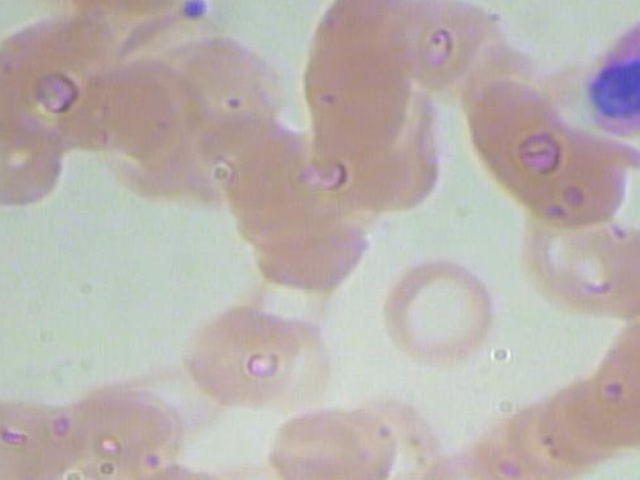Platelets: (175, 0, 216, 26)
RBC: (55, 56, 186, 178), (453, 80, 583, 202), (56, 363, 192, 479), (371, 247, 497, 368), (248, 187, 373, 308), (160, 24, 286, 144), (175, 290, 300, 410), (239, 291, 364, 411), (514, 208, 639, 304), (261, 392, 396, 480), (479, 391, 605, 480), (189, 95, 300, 190), (532, 367, 640, 463), (0, 102, 81, 224), (393, 0, 504, 87), (0, 373, 87, 480), (556, 217, 640, 314), (448, 421, 574, 480), (563, 344, 640, 440), (401, 435, 526, 480), (588, 327, 640, 423), (603, 232, 640, 329)
WBC: (583, 1, 640, 144)
